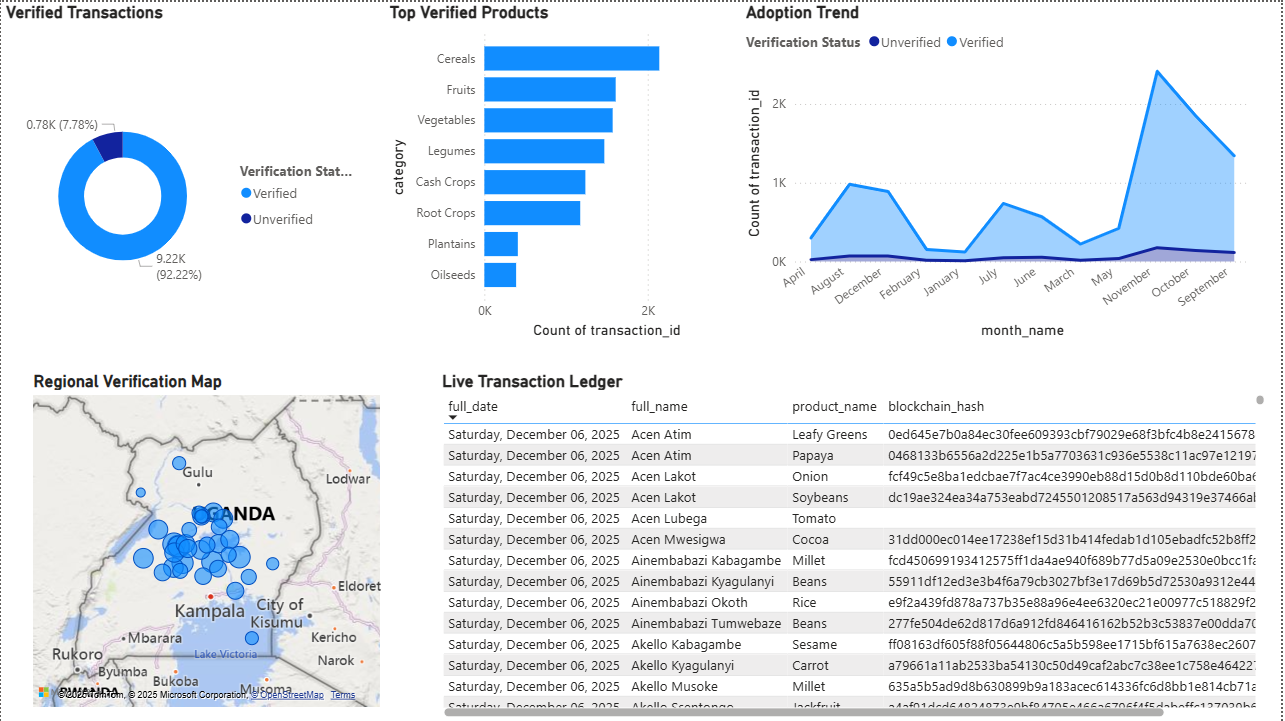

This screenshot's page, from the dashboard's own definition file:
{"tool":"powerbi","page":{"name":"Supply Chain Traceability","canvas":[1280,720],"ordinal":4},"visuals":[{"type":"cardVisual","fields":{"Data":["Count(dw fact_transaction.transaction_id)"]},"box":[0,0,356.8,369.2],"z":0},{"type":"donutChart","title":"Verified Transactions","fields":{"Y":["CountNonNull(dw fact_transaction.transaction_id)"],"Category":["dw fact_transaction.Verification Status"]},"box":[0,0,356.8,369.2],"z":1000},{"type":"stackedAreaChart","title":"Adoption Trend","fields":{"Category":["dw dim_date.month_name","dw dim_date.year"],"Y":["CountNonNull(dw fact_transaction.transaction_id)"],"Series":["dw fact_transaction.Verification Status"]},"box":[740,0,513.8,341.2],"z":2000},{"type":"clusteredBarChart","title":"Top Verified Products","fields":{"Category":["dw dim_product.category"],"Y":["CountNonNull(dw fact_transaction.transaction_id)"]},"box":[383.9,0,356.8,341],"z":3000},{"type":"map","title":"Regional Verification Map","fields":{"Y":["Avg(dw dim_market.gps_latitude)"],"X":["Avg(dw dim_market.gps_longitude)"],"Size":["Count(dw fact_transaction.transaction_id)"],"Category":["dw dim_market.district"]},"box":[27.1,369.2,356.8,341],"z":4000},{"type":"tableEx","title":"Live Transaction Ledger","fields":{"Values":["dw dim_date.full_date","dw dim_farmer.full_name","dw dim_product.product_name","dw fact_transaction.blockchain_hash"]},"box":[435.9,369.2,832.2,351.2],"z":5000}]}

Visuals, with their boxes in screenshot pixels (x1, y1, x2, y2), scaled from the page's 1280x720 canvas onto the 1285x721 screenshot:
cardVisual - Count(dw fact_transaction.transaction_id): locate(0, 0, 358, 370)
"Verified Transactions" donutChart: locate(0, 0, 358, 370)
"Adoption Trend" stackedAreaChart: locate(743, 0, 1259, 342)
"Top Verified Products" clusteredBarChart: locate(385, 0, 744, 341)
"Regional Verification Map" map: locate(27, 370, 385, 711)
"Live Transaction Ledger" tableEx: locate(438, 370, 1273, 720)
